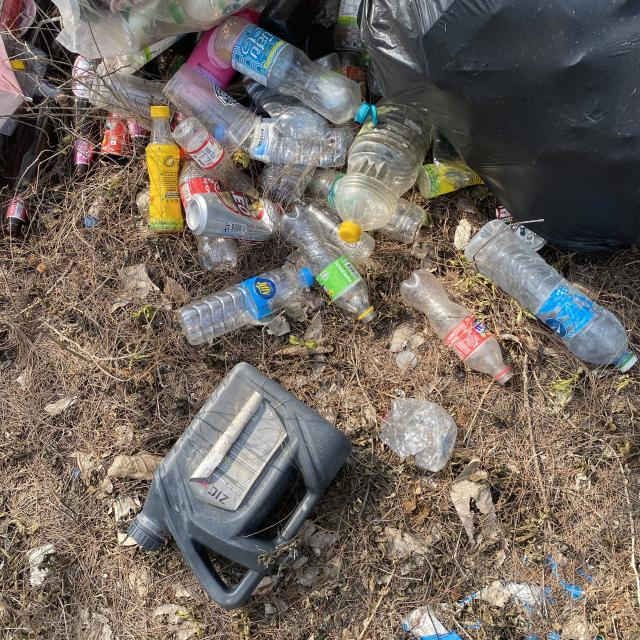HDPE Plastic: (128, 362, 351, 609)
Single-layer Plastic: (360, 0, 640, 254), (379, 398, 458, 471)
